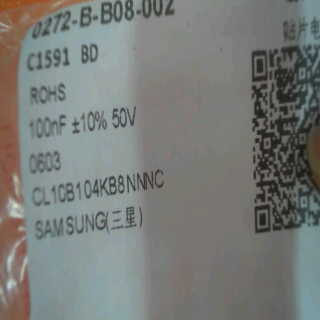100nF: (19, 109, 71, 140)
